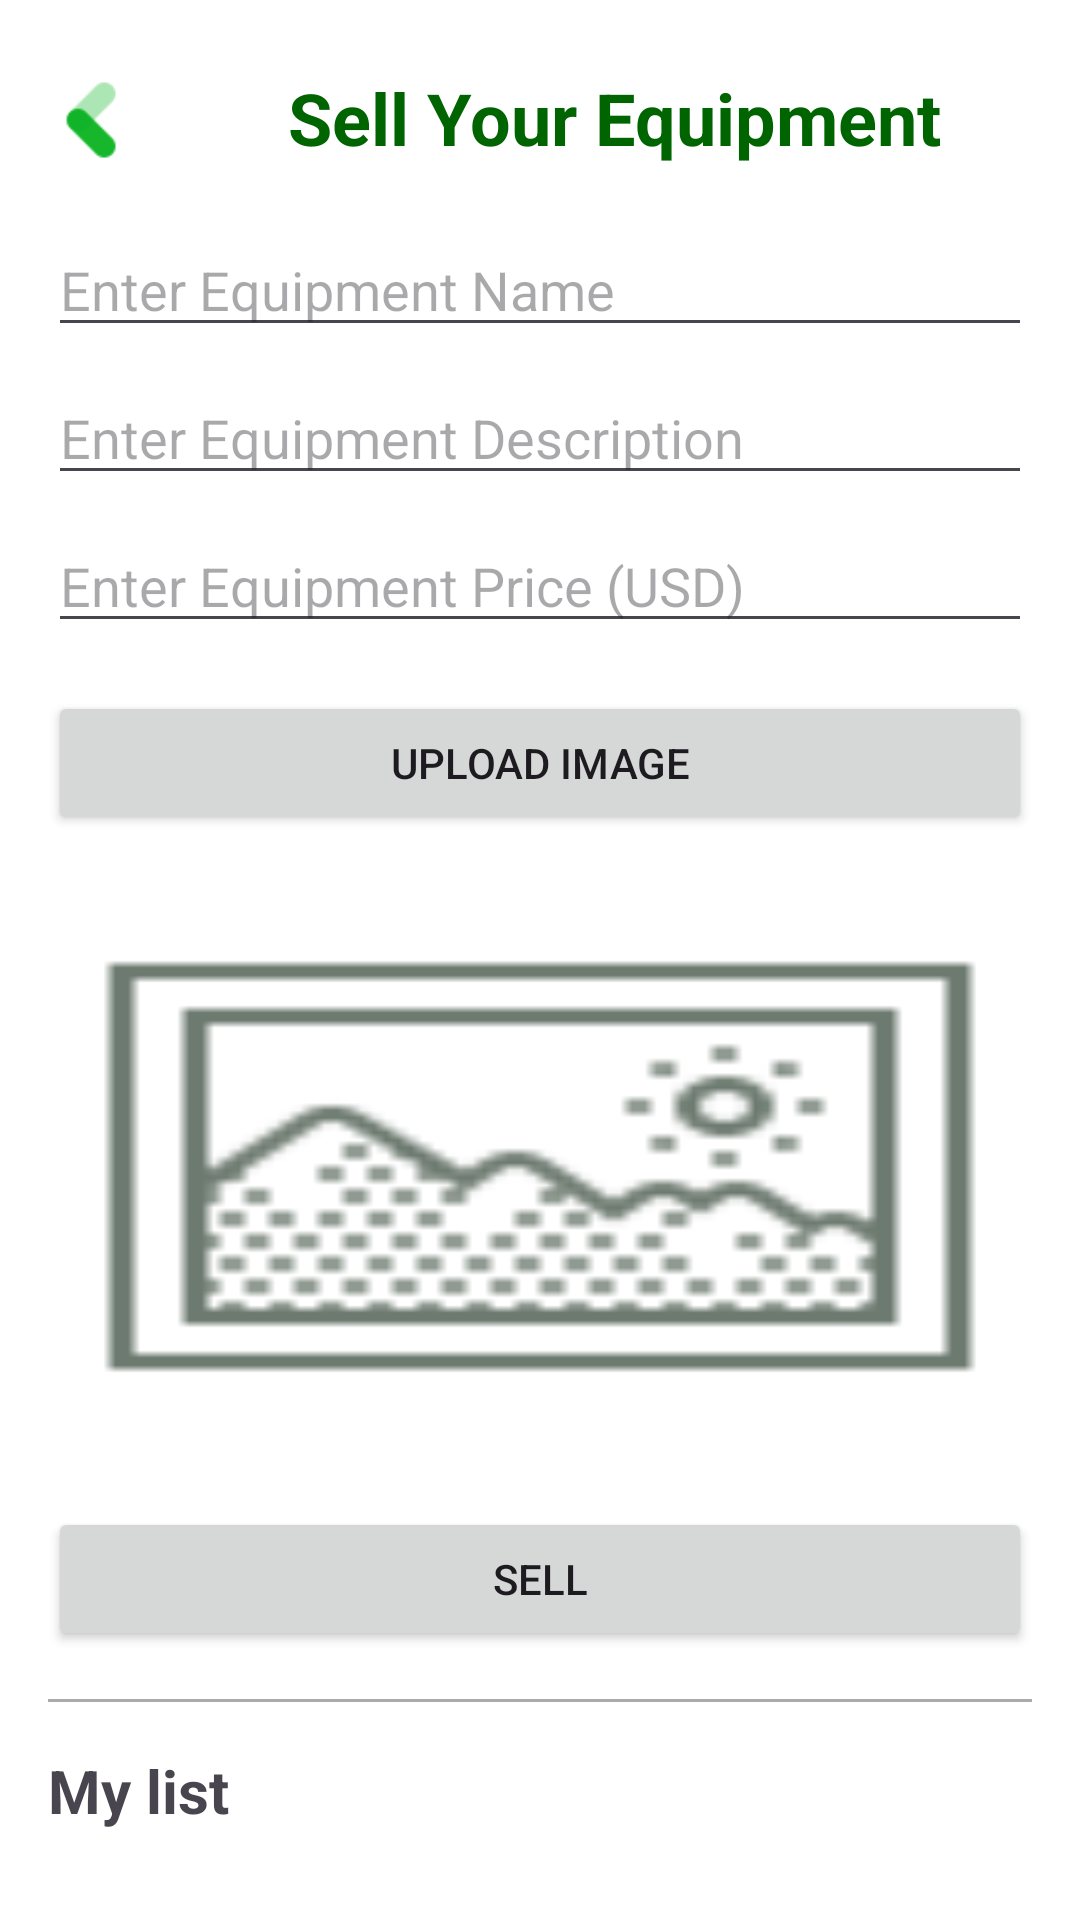

Named icons in this screenshot (1080w x 1920h) and their bounding boxes, bbox=(x1, y1, x2, y2):
back: bbox=(66, 82, 116, 158)
